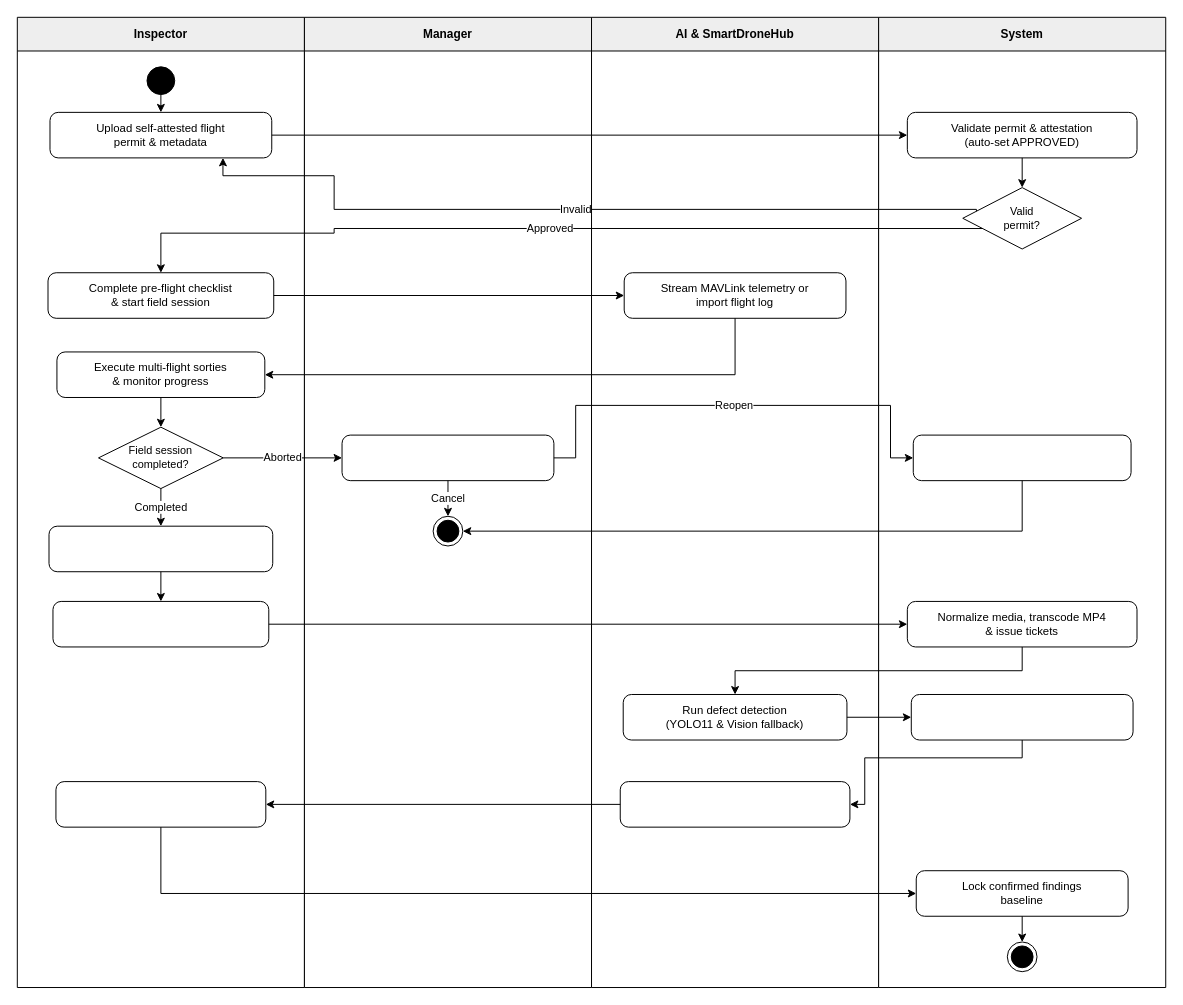
The diagram is 1183 pixels wide and 1005 high, and some of its shapes have lost their labels. The shapes that lost their labels are listed below. From the top down, each one's centre as x and y in pixels, then its label:
the point at 447,457: Reschedule / reassign or cancel mission
the point at 1021,457: Log reliability event & reopen mission
the point at 160,548: Complete post-flight checklist & sync mission video
the point at 160,623: Upload photos & chunked MP4 video
the point at 1021,716: Auto-confirm high-confidence detections
the point at 160,804: Review findings & confirm baseline
the point at 734,804: Retrieve similar historical cases & standards
